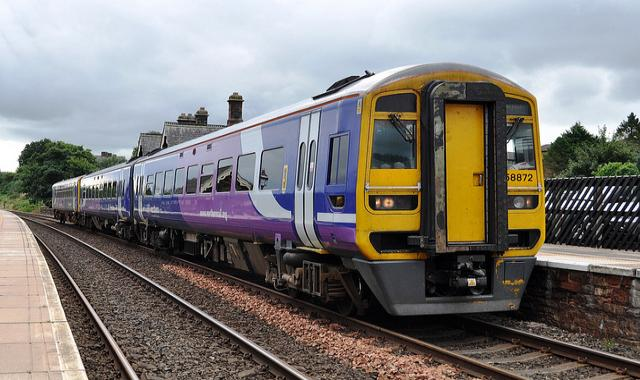train: (41, 52, 549, 327)
